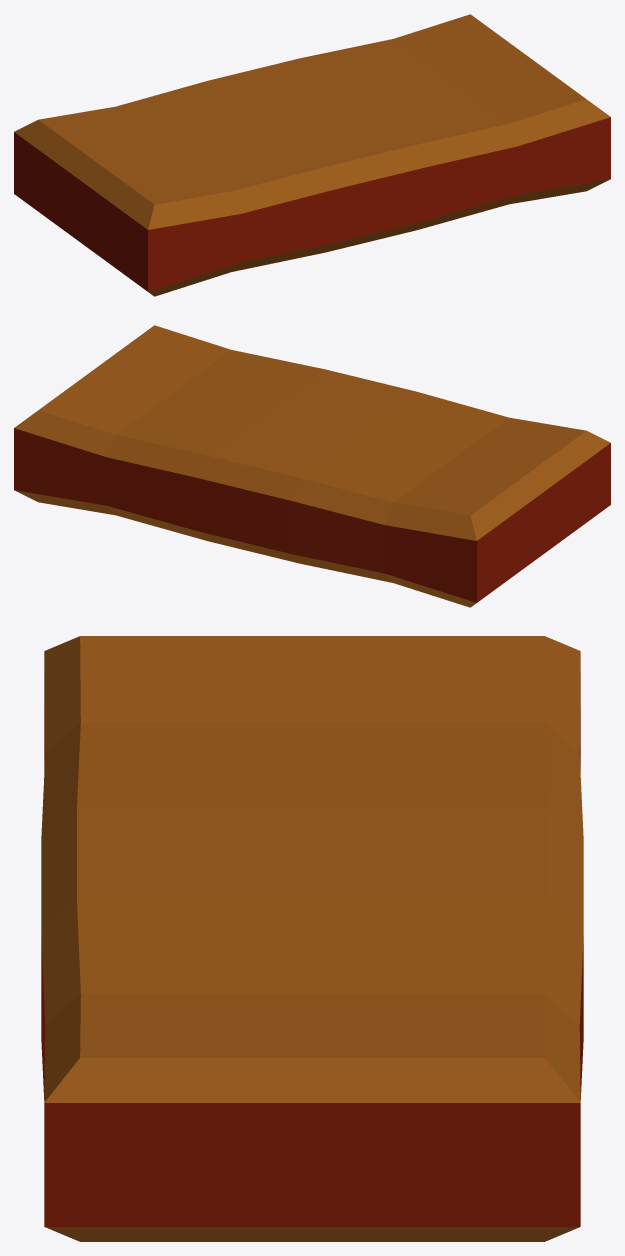
The model's file is tabla_madera.fbx.
3 renders of one model, top to bottom at view 1: azimuth 30°, elevation 25°; view 2: azimuth 150°, elevation 25°; view 3: azimuth 270°, elevation 25°, orthographic. The views are drawn at different scales.
Visible parts, largest first — view 1: Box029; view 2: Box029; view 3: Box029.
Boxes of the visible parts, x1,y1,x2,y2 form: Box029: (14,14,610,296); Box029: (14,325,610,607); Box029: (41,636,583,1241).
Bounding box in the file's own units: 60 × 11.4 × 30.45.
